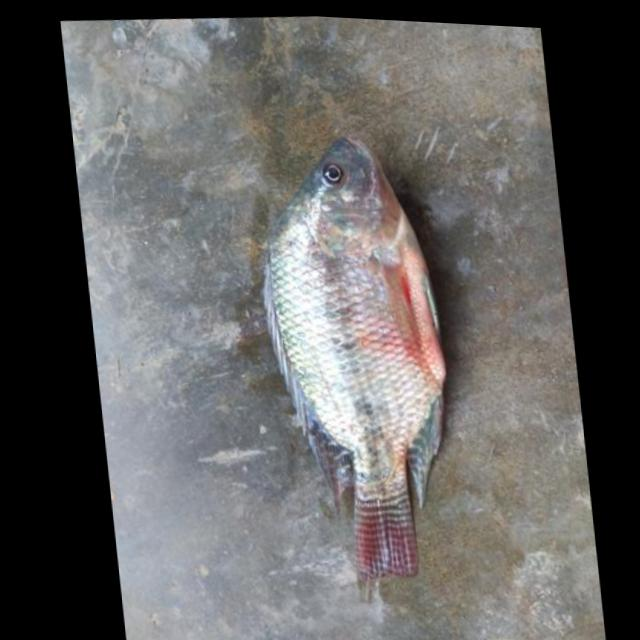Tilapia: (239, 121, 468, 593)
